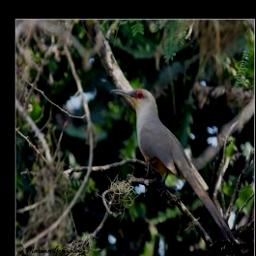Cuckoo: (108, 86, 240, 247)
